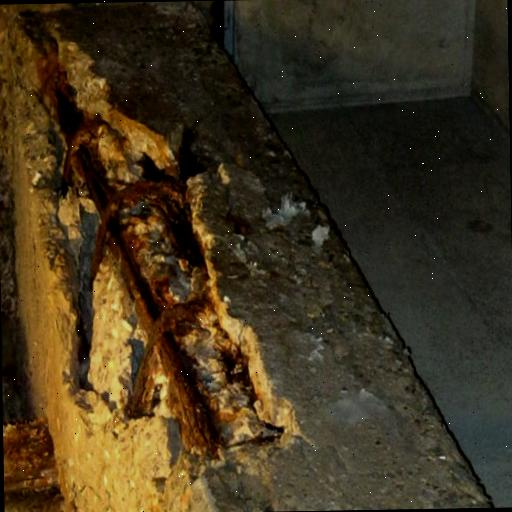spalling: (16, 16, 297, 466)
